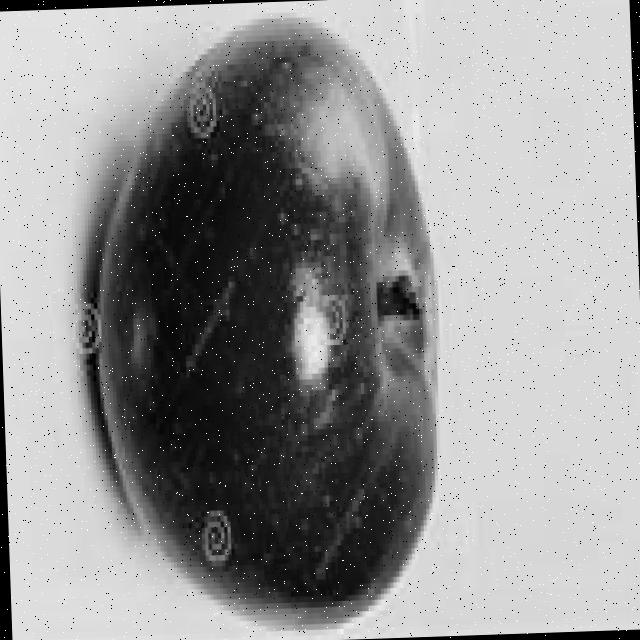apple: (81, 8, 452, 636)
